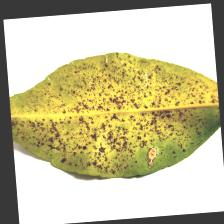canker: (56, 77, 175, 164)
